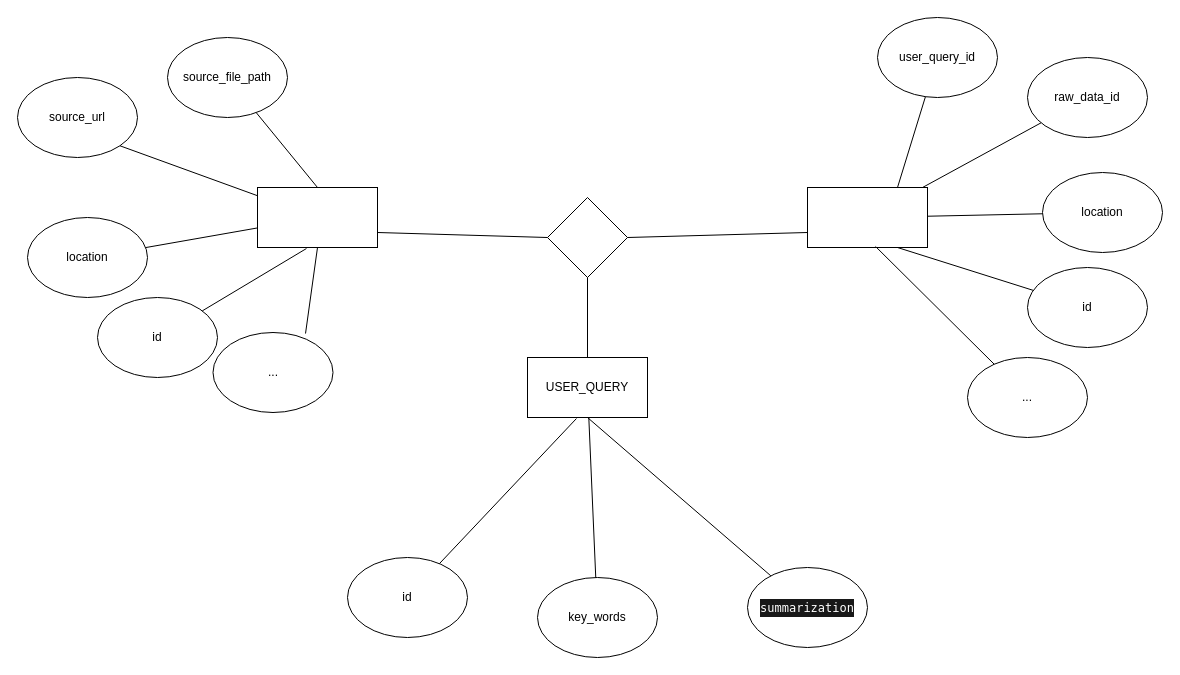
Some shapes in this 1180 by 675 pixel diagram are drawn without their labels. Here are the shapes that lost their labels. From the top down, the centre of each, then its label:
At point 317,217: "RAW_DATA".
At point 587,237: "query".
At point 867,217: "MEAT_SAMPLE".
